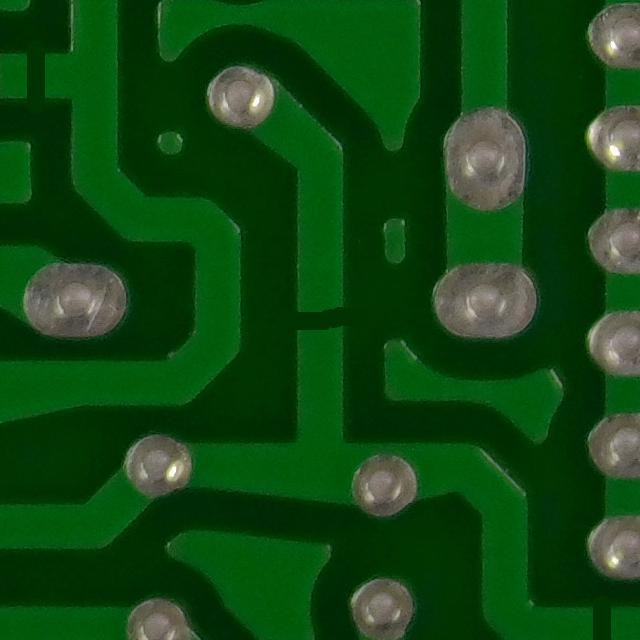open_circuit: (275, 291, 366, 349)
